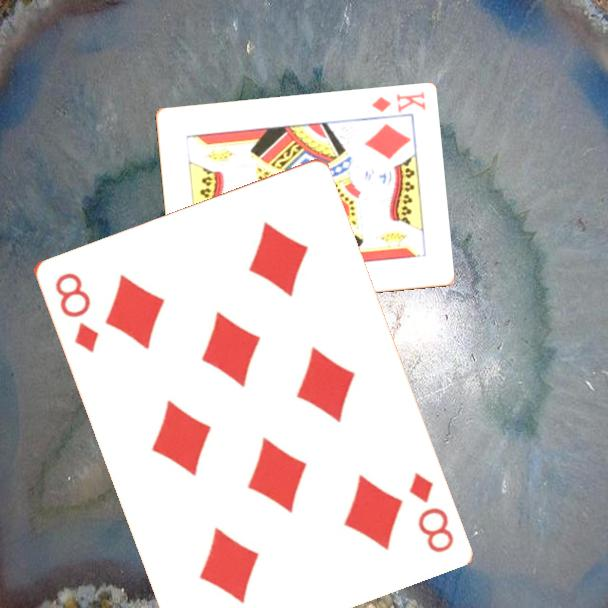d08: (405, 468, 456, 556), (51, 269, 101, 356)
d13: (368, 88, 428, 116)
